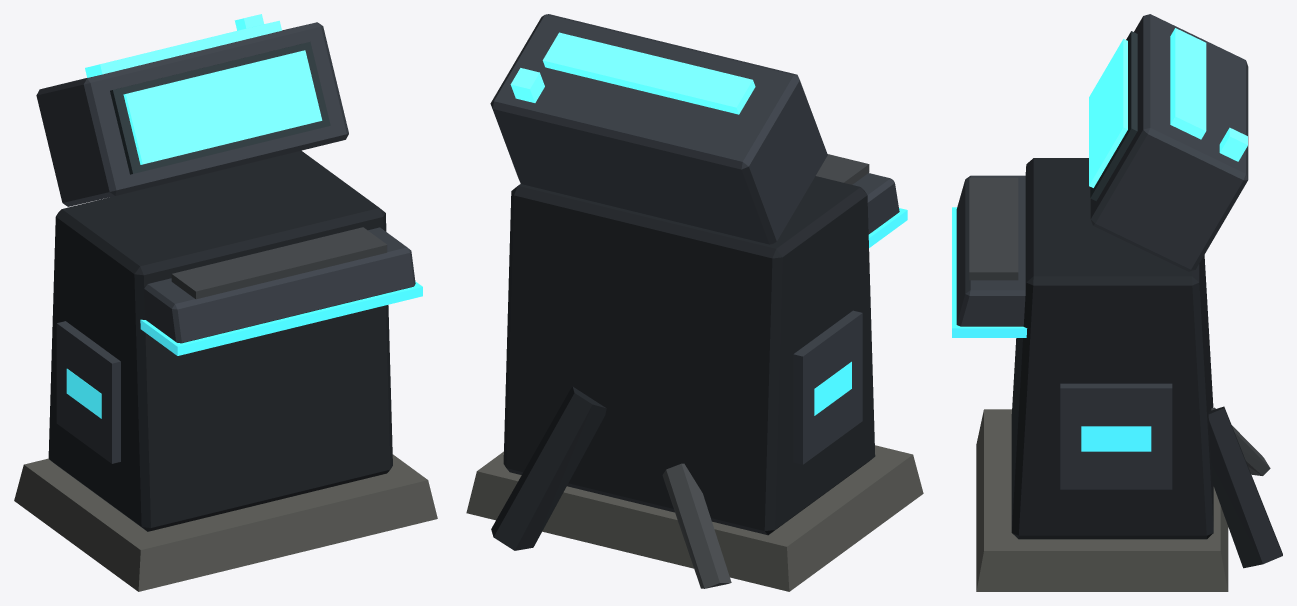
The model's file is device_terminal.glb.
3 renders of one model, left to right at view 1: azimuth 30°, elevation 25°; view 2: azimuth 150°, elevation 25°; view 3: azimuth 270°, elevation 25°, orthographic. The views are drawn at different scales.
Visible parts, largest first — view 1: device_terminal_mesh; view 2: device_terminal_mesh; view 3: device_terminal_mesh.
Boxes of the visible parts, x1=… form: device_terminal_mesh: x1=14, y1=14, x2=437, y2=591; device_terminal_mesh: x1=466, y1=14, x2=923, y2=591; device_terminal_mesh: x1=952, y1=14, x2=1282, y2=591.
Bounding box in the file's own units: 1 × 1.41 × 0.9468.
